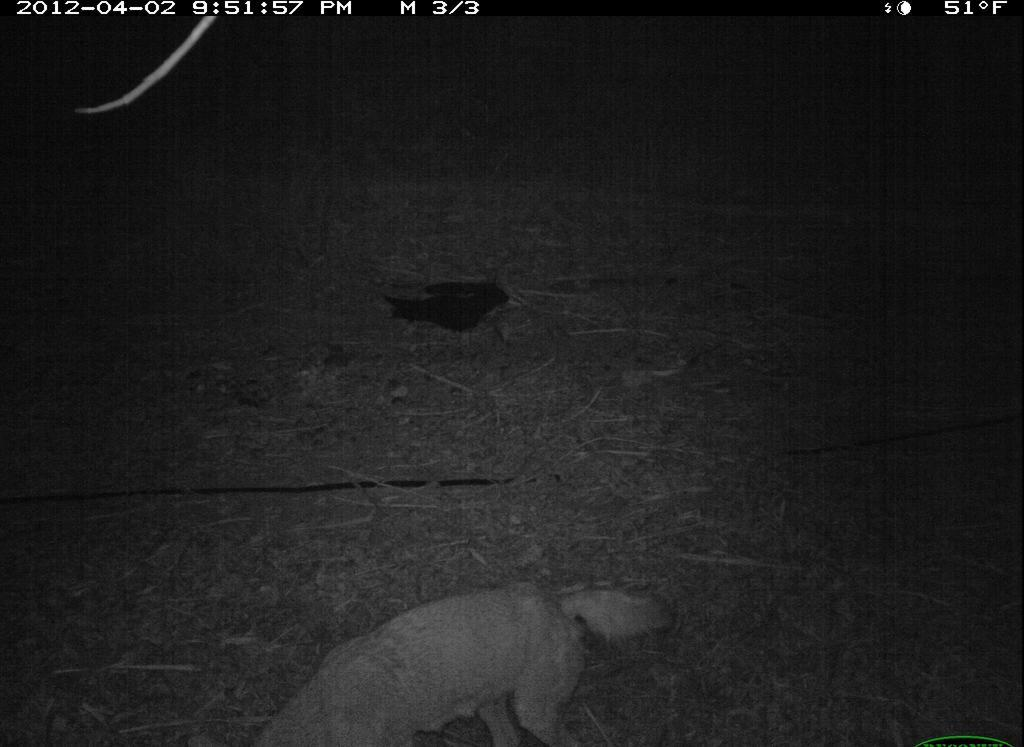coyote: (246, 574, 692, 747)
